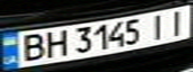1: (90, 21, 112, 51)
3: (69, 25, 93, 55)
4: (106, 18, 130, 48)
5: (121, 16, 148, 45)
B: (12, 30, 48, 63)
H: (39, 27, 69, 58)
I: (163, 7, 193, 36), (142, 11, 172, 39)
